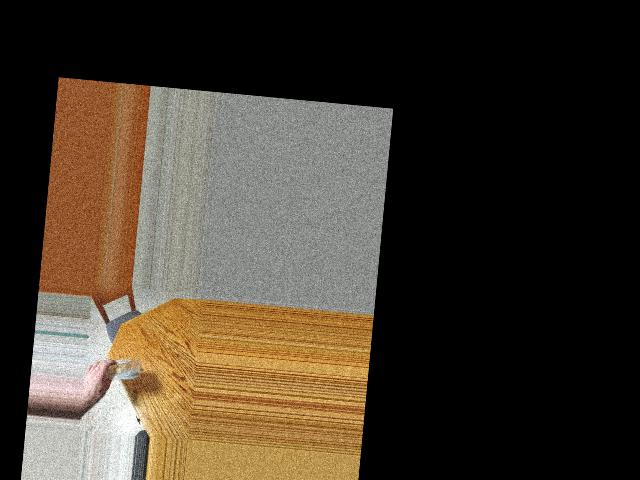cheese: (92, 347, 143, 399)
